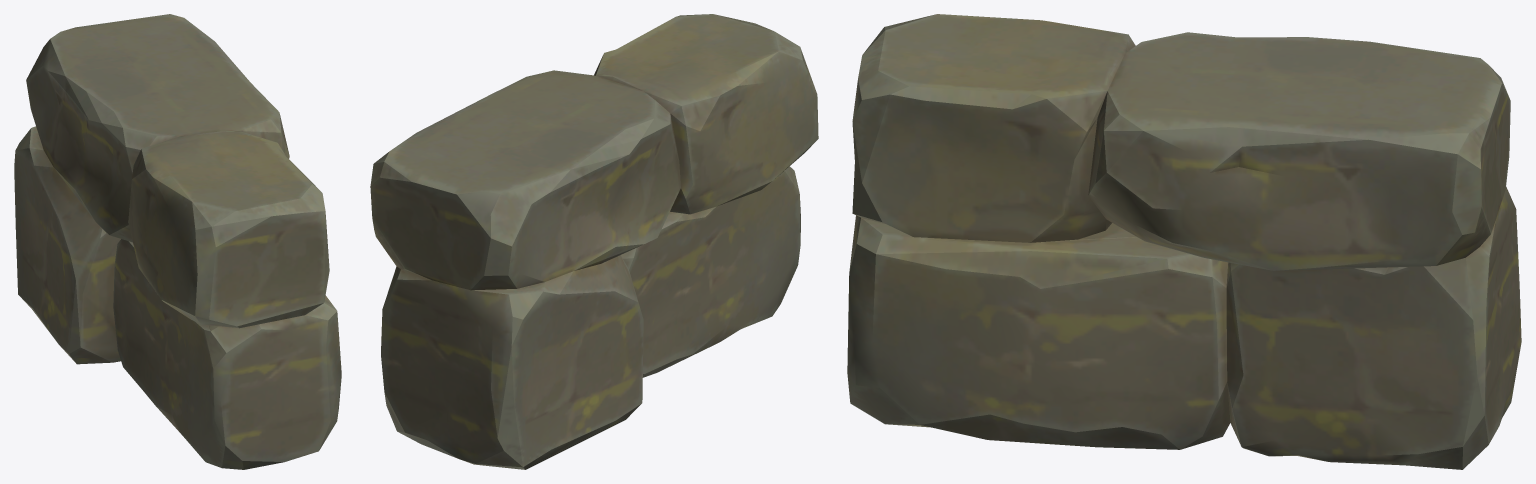
File: lowWall4.fbx
3 renders of one model, left to right at view 1: azimuth 30°, elevation 25°; view 2: azimuth 150°, elevation 25°; view 3: azimuth 270°, elevation 25°, orthographic. The views are drawn at different scales.
Parts seen in each view (by area): view 1: lowWall4; view 2: lowWall4; view 3: lowWall4.
Boxes of the visible parts, <box> form: lowWall4: <box>14,14,341,469</box>; lowWall4: <box>370,14,818,469</box>; lowWall4: <box>847,14,1521,469</box>.
Size of the model in its own units: 2.54 by 3.02 by 5.24.
Materials: 1 (1 with a texture image).
